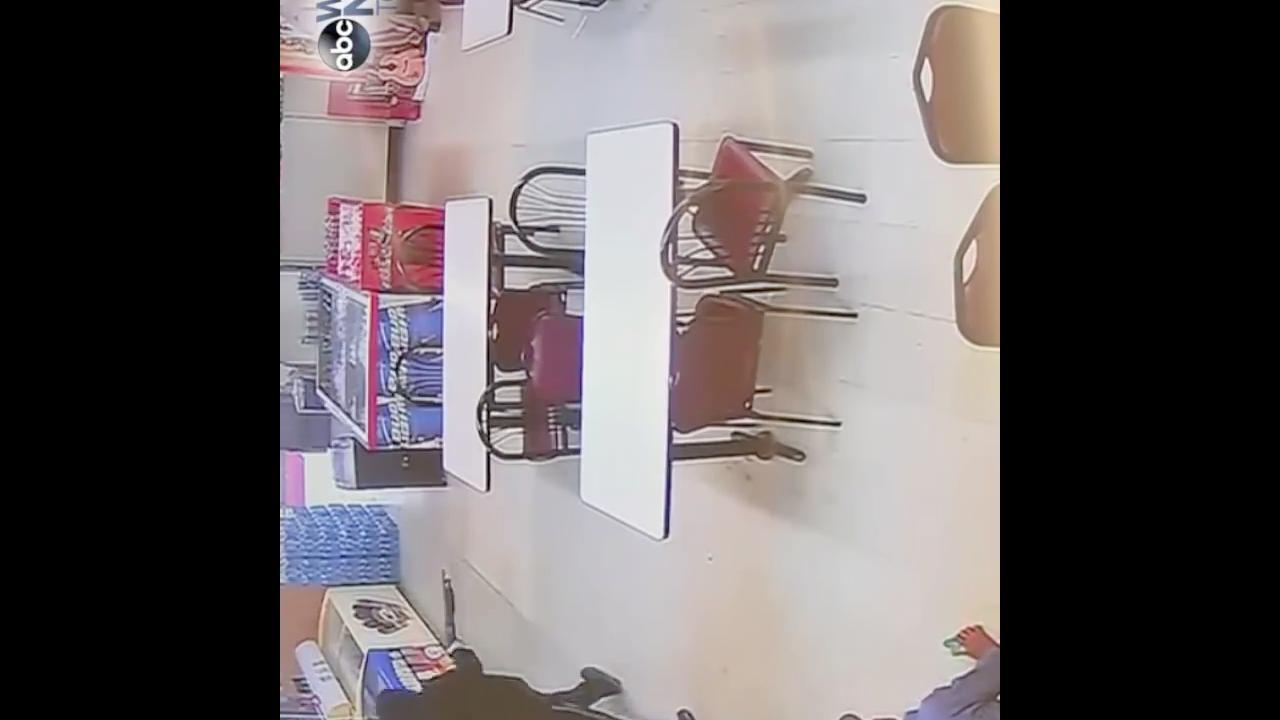gun: (428, 558, 464, 662)
